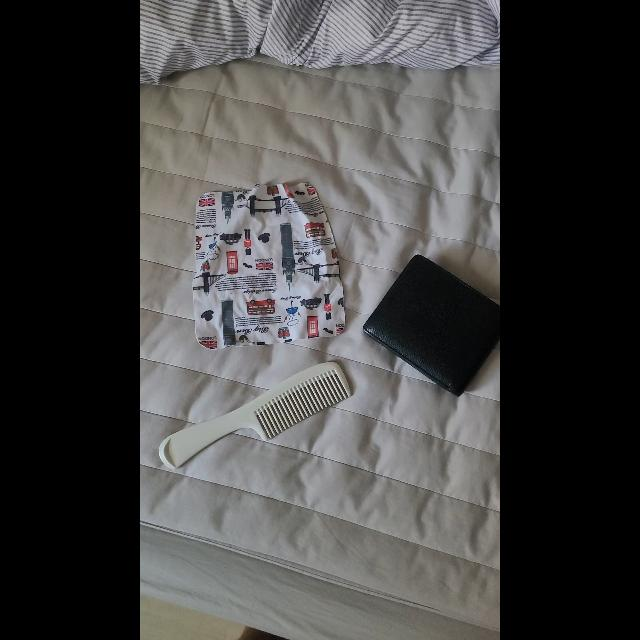COMB: (159, 362, 351, 470)
Glasses cleaning cloth: (192, 181, 346, 349)
WALLET: (362, 255, 500, 398)
